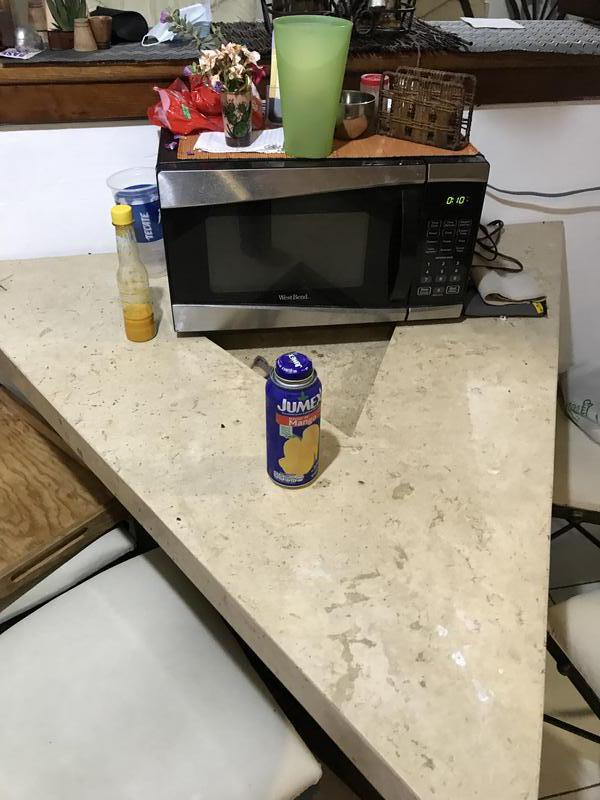jugo_jumex: (264, 353, 324, 488)
